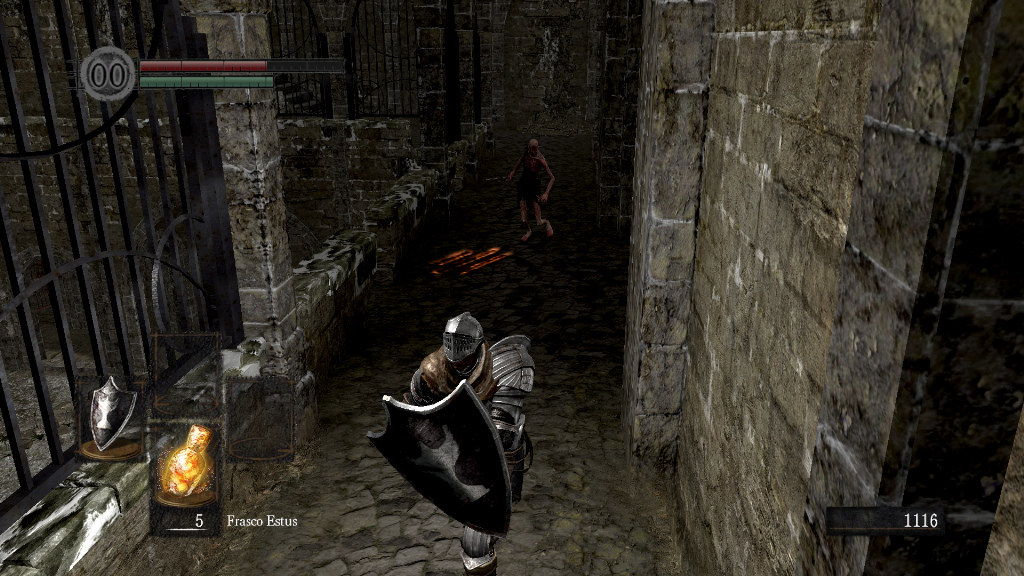health: (138, 58, 343, 71)
hollow: (508, 138, 560, 244)
humanity: (80, 45, 136, 102)
player: (365, 311, 538, 576)
souls: (825, 506, 945, 536)
stamina: (138, 74, 274, 88)
